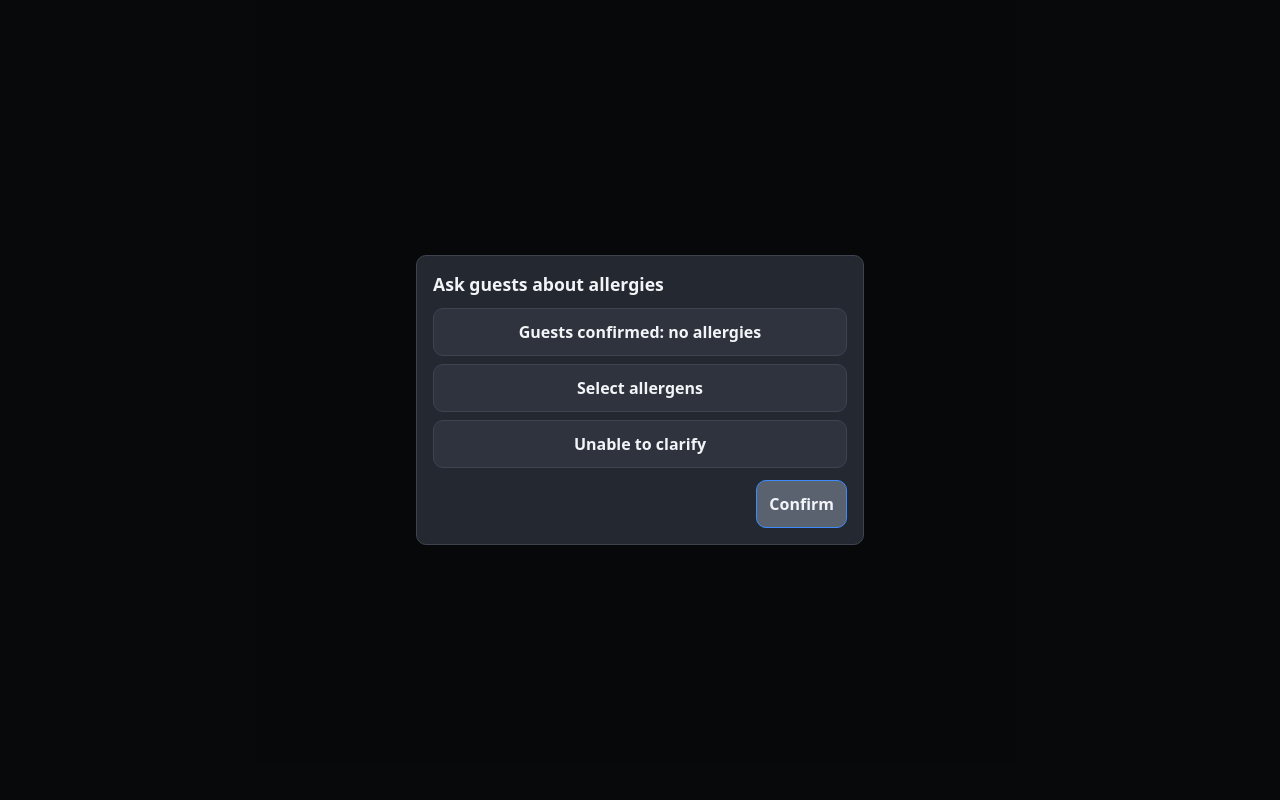
Scenario: AllergenPanel › captures NO_ALLERGIES_CONFIRMED
What coordinates should you click on to do the following:
click the radio button "Guests confirmed: no allergies"
I would click on:
 (640, 332)
Its box is [433,308,847,356].
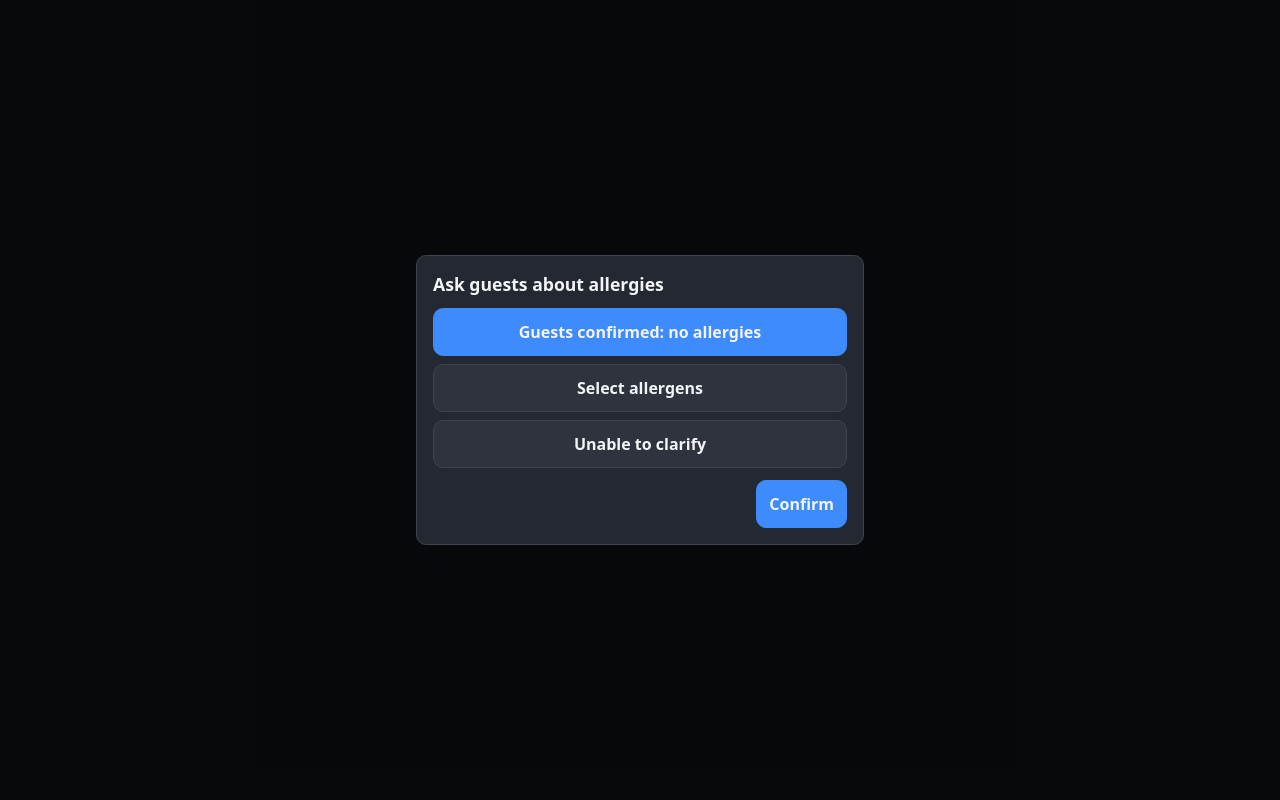
What coordinates should you click on to do the following:
click the button "Confirm"
I would click on:
 (802, 504)
Its box is [756,480,847,528].
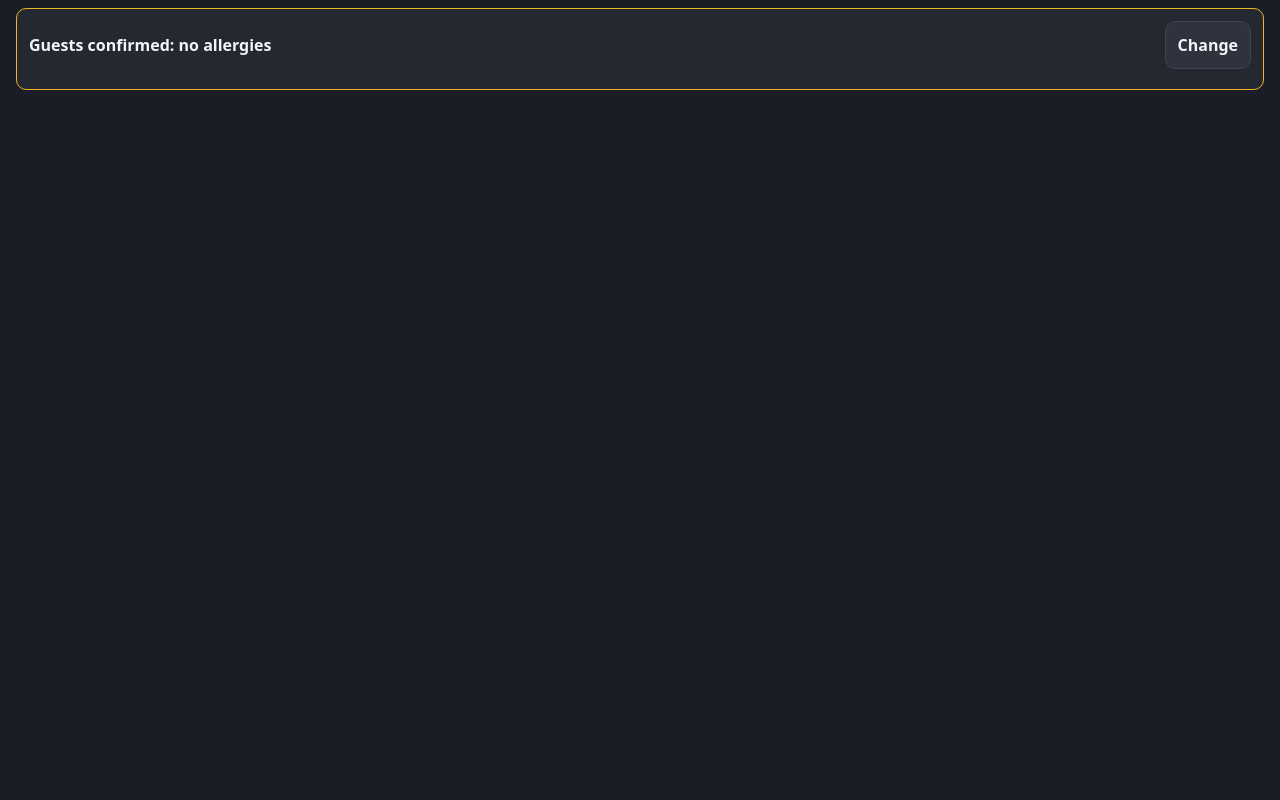
Expected: the element with test id "allergen-banner" is shown, [16,8,1264,90]
Expected: the dialog is gone
